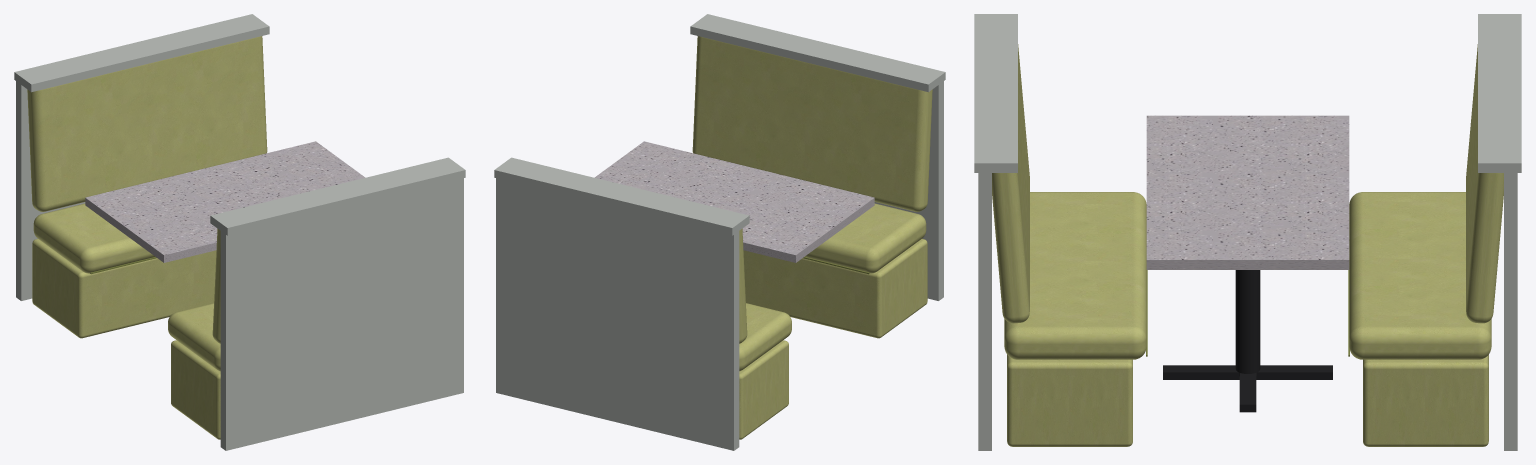
The model's file is lime_booth.glb.
The picture shows the model from 3 angles, left to right: view 1: azimuth 30°, elevation 25°; view 2: azimuth 150°, elevation 25°; view 3: azimuth 270°, elevation 25°; orthographic projection. The views are drawn at different scales.
Visible parts, largest first — view 1: booth_bench (×2), terrazzo_table; view 2: booth_bench (×2), terrazzo_table; view 3: booth_bench (×2), terrazzo_table.
Boxes of the visible parts, x1,y1,x2,y2 form: booth_bench (×2): (14,14,465,450); terrazzo_table: (85,141,365,262); booth_bench (×2): (494,14,945,450); terrazzo_table: (594,141,874,262); booth_bench (×2): (974,14,1521,450); terrazzo_table: (1146,115,1349,412).
Size of the model in its own units: 1.29 by 1.16 by 2.
6 materials, 2 textured.
